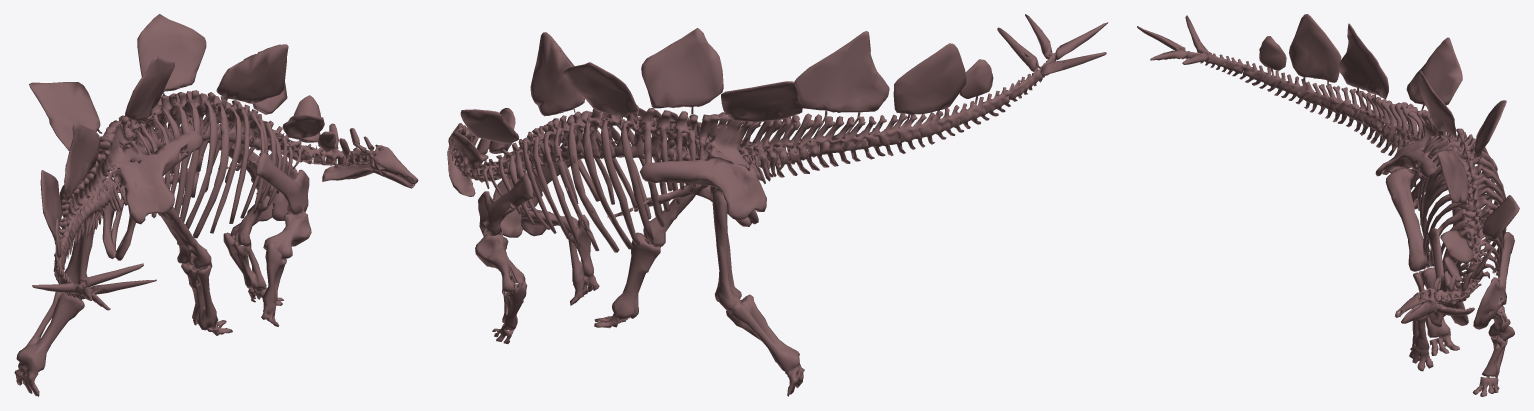
The model's file is kambedla-skeleton.glb.
3 renders of one model, left to right at view 1: azimuth 30°, elevation 25°; view 2: azimuth 150°, elevation 25°; view 3: azimuth 270°, elevation 25°, orthographic. The views are drawn at different scales.
Parts seen in each view (by area): view 1: Skeleton; view 2: Skeleton; view 3: Skeleton.
Part boxes in pixels (x1=…): Skeleton: x1=14, y1=14, x2=418, y2=396; Skeleton: x1=447, y1=14, x2=1108, y2=396; Skeleton: x1=1137, y1=14, x2=1519, y2=396.
Bounding box in the file's own units: 4840 × 2917 × 3758.
